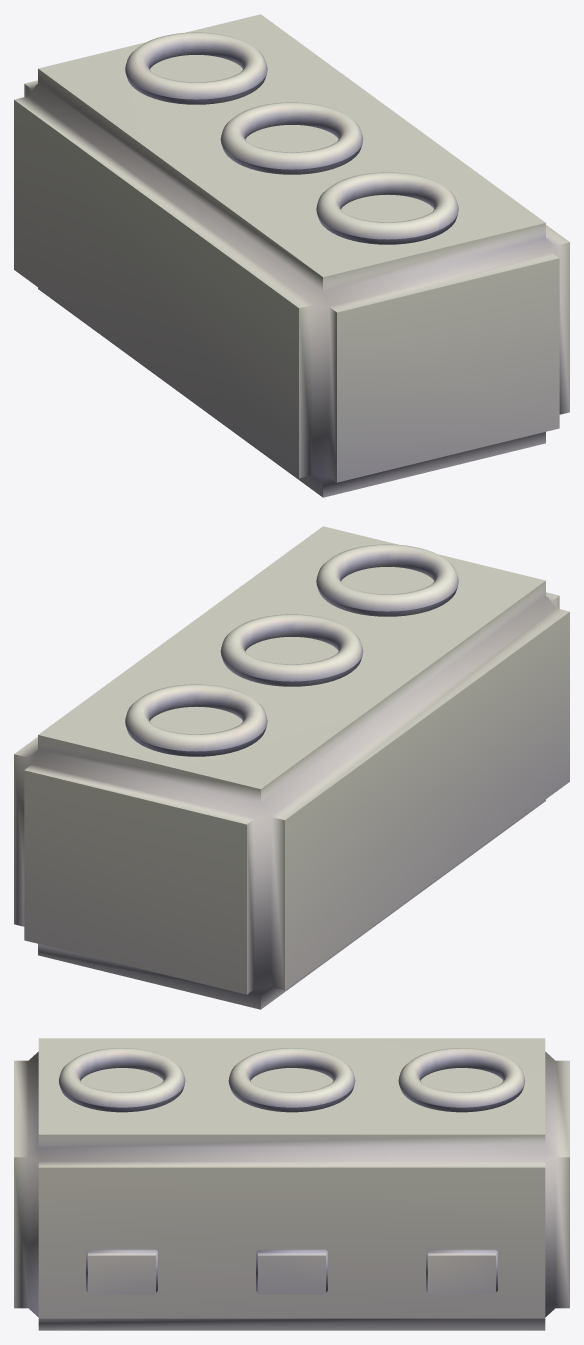
File: chulha.glb
3 views of the same model, one above another, from view 1: azimuth 30°, elevation 25°; view 2: azimuth 150°, elevation 25°; view 3: azimuth 270°, elevation 25° (orthographic). The views are drawn at different scales.
Parts seen in each view (by area): view 1: body; view 2: body; view 3: body.
Part boxes in pixels (left/top/right/bottom): body: left=14, top=14, right=569, bottom=497; body: left=14, top=526, right=569, bottom=1009; body: left=14, top=1038, right=569, bottom=1330.
Size of the model in its own units: 0.93 by 0.755 by 1.8.
